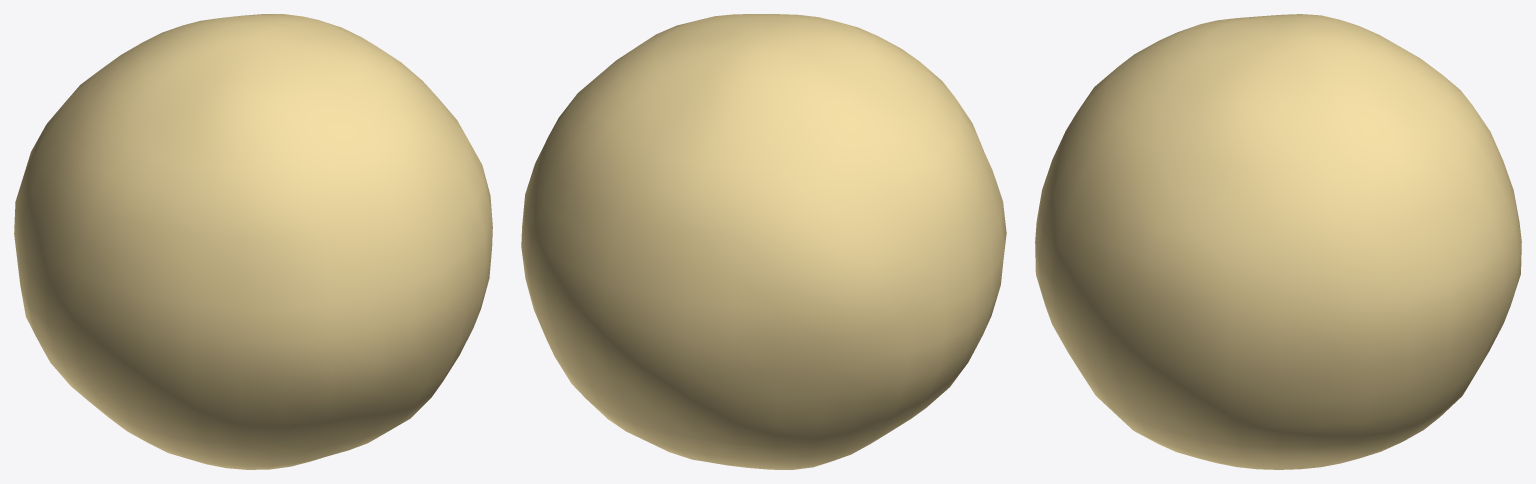
Rendered from Takoyaki_Ball_Raw.fbx.
3 views of the same model, side by side, from view 1: azimuth 30°, elevation 25°; view 2: azimuth 150°, elevation 25°; view 3: azimuth 270°, elevation 25° (orthographic).
Visible parts, largest first — view 1: Takoyaki_Ball_Raw; view 2: Takoyaki_Ball_Raw; view 3: Takoyaki_Ball_Raw.
Boxes of the visible parts, box(x1,y1,x2,y2) form: Takoyaki_Ball_Raw: box(14, 14, 492, 469); Takoyaki_Ball_Raw: box(521, 14, 1006, 469); Takoyaki_Ball_Raw: box(1035, 14, 1521, 469).
Size of the model in its own units: 0.0409 by 0.0378 by 0.041.
